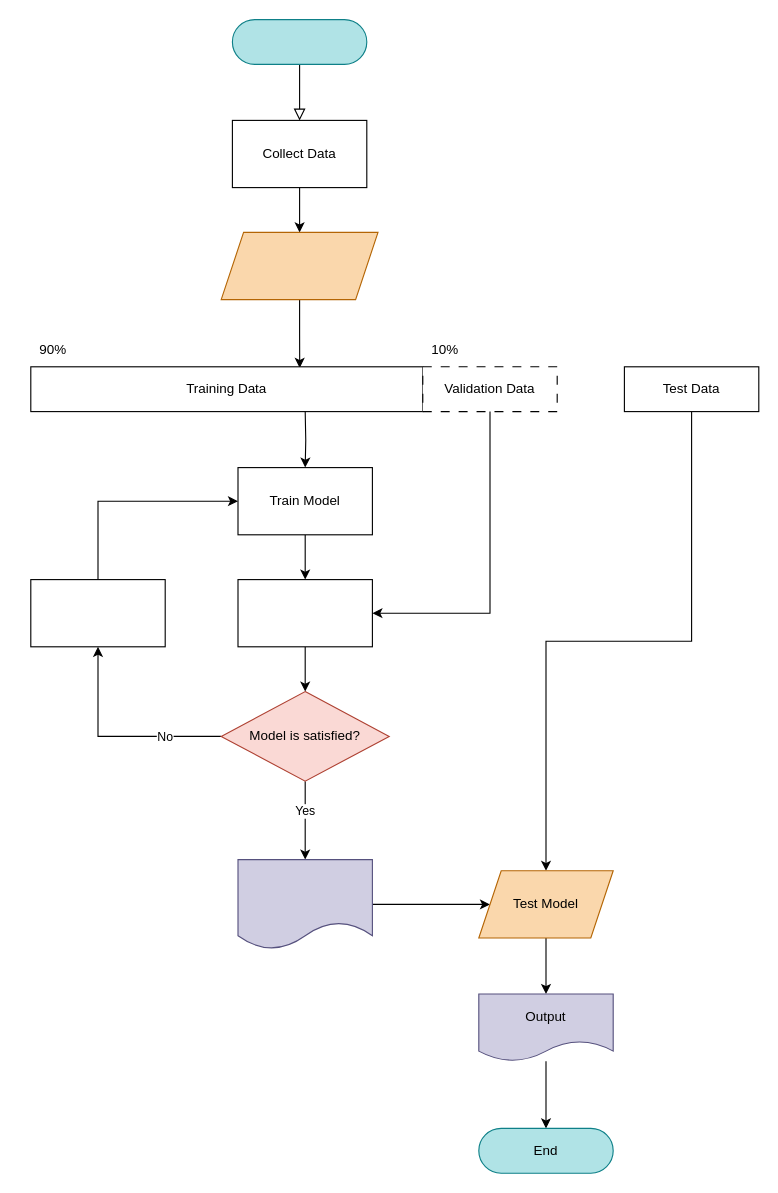
Some shapes in this 778 by 1193 pixel diagram are drawn without their labels. The shapes that lost their labels are listed below. From the top down, each one's box as (x1, y1, x2, y2) in pixels, then its label:
(231, 18, 367, 64): Start
(220, 231, 378, 300): Data Preprocessing
(30, 578, 165, 647): Fine tune the model
(237, 578, 372, 647): Evaluation Model
(237, 858, 372, 949): Model
